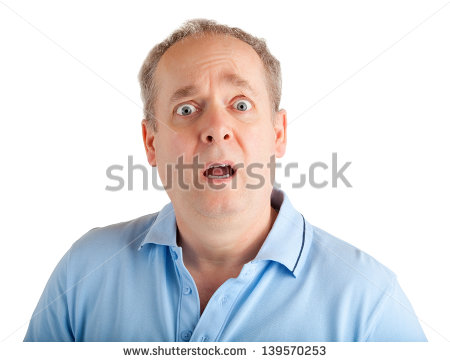confused: (141, 53, 280, 224)
